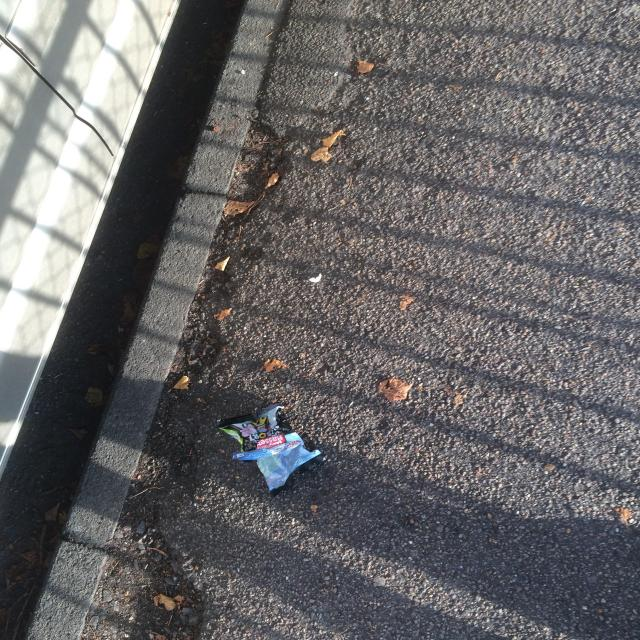Plastic film: (216, 402, 327, 499)
